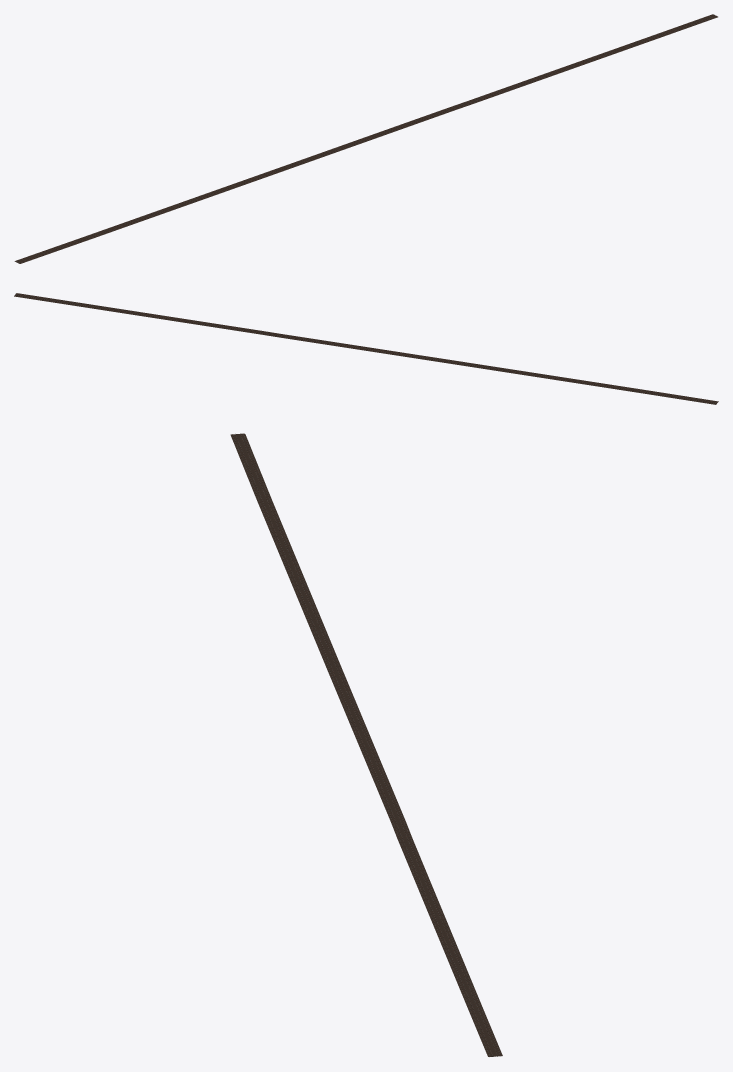
File: kobe_0023.glb
3 views of the same model, one above another, from view 1: azimuth 30°, elevation 25°; view 2: azimuth 150°, elevation 25°; view 3: azimuth 270°, elevation 25° (orthographic). The views are drawn at different scales.
Visible parts, largest first — view 1: ballast_top, oxidised_rail_profiles; view 2: ballast_top, oxidised_rail_profiles, ballast_left; view 3: ballast_top, oxidised_rail_profiles.
Part boxes in pixels (x1,y1,x2,y2): ballast_top: (14,14,717,263); oxidised_rail_profiles: (15,14,717,263); ballast_top: (14,293,718,404); oxidised_rail_profiles: (15,293,717,403); ballast_left: (14,296,716,404); ballast_top: (230,433,502,1056); oxidised_rail_profiles: (232,433,500,1055).
Bounding box in the file's own units: 745 × 0.819 × 138.
4 materials, 3 textured.
